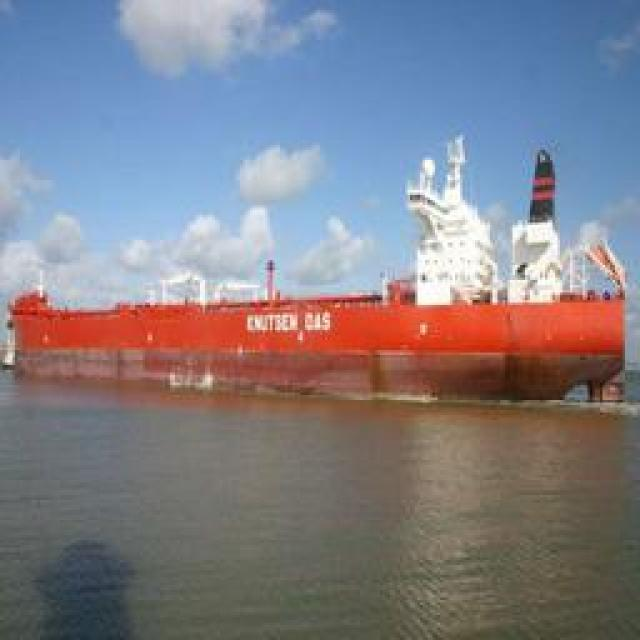CIV_Ship: (18, 144, 630, 394)
